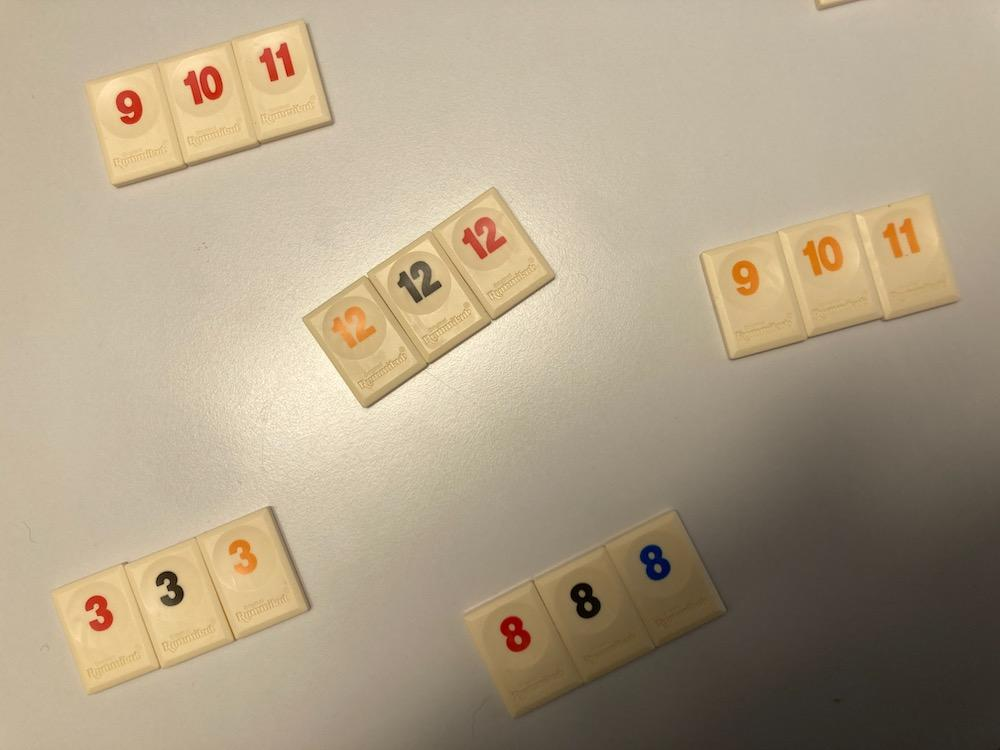black_12: (369, 232, 490, 363)
black_3: (125, 539, 234, 666)
black_8: (535, 547, 654, 682)
blue_8: (606, 512, 725, 646)
orange_10: (779, 213, 883, 336)
orange_11: (857, 195, 959, 320)
orange_12: (305, 277, 426, 406)
orange_3: (197, 508, 309, 639)
orange_9: (701, 232, 807, 357)
red_10: (158, 43, 258, 164)
red_11: (232, 20, 332, 143)
red_12: (434, 188, 555, 318)
red_3: (53, 564, 158, 693)
red_8: (465, 580, 582, 717)
red_9: (86, 64, 184, 186)
